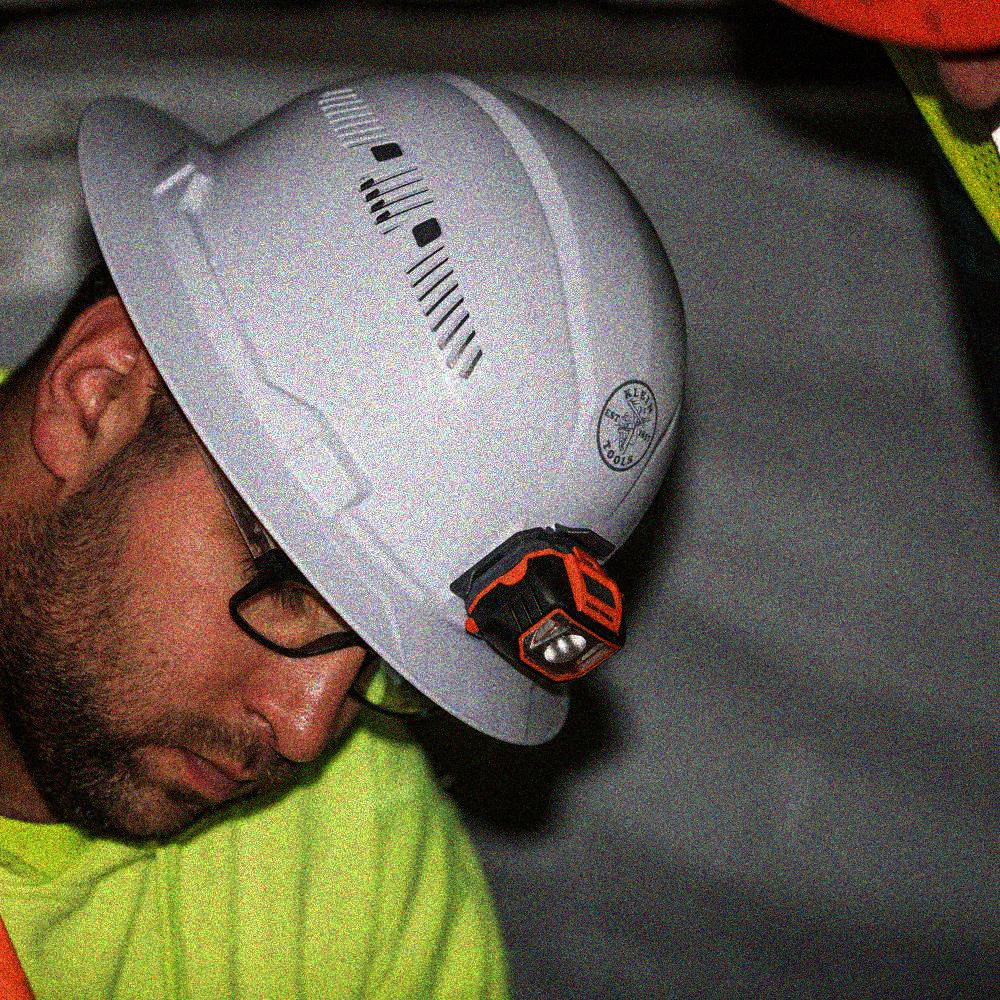helmet: (1, 65, 705, 844)
